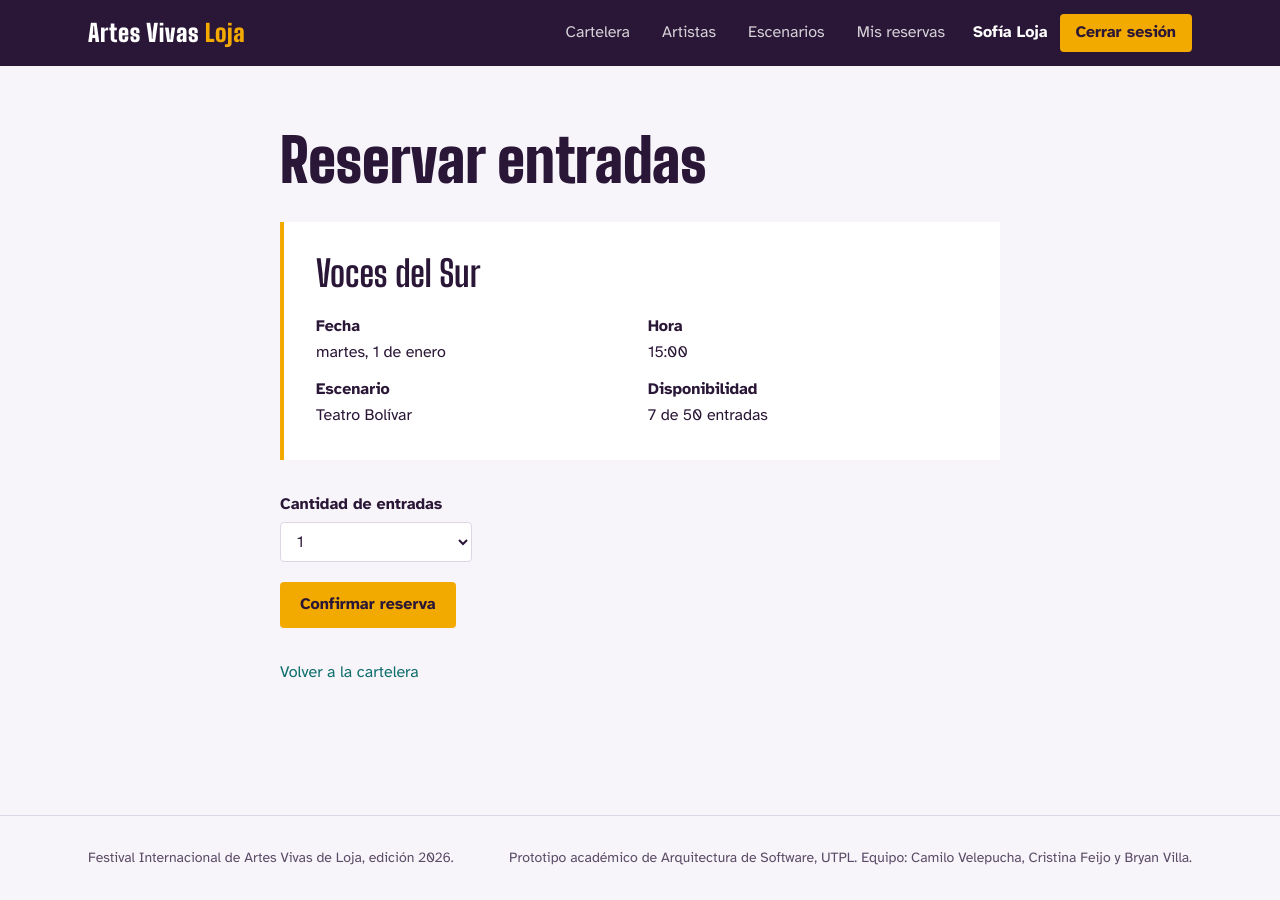
it: ReservePage › muestra errores de aforo devueltos por la API
The width and height of the screenshot is (1280, 900).
Expected: the heading "Voces del Sur" is shown, [316,252,480,295]
Click the button "Confirmar reserva": {"x": 368, "y": 605} [280,582,456,628]
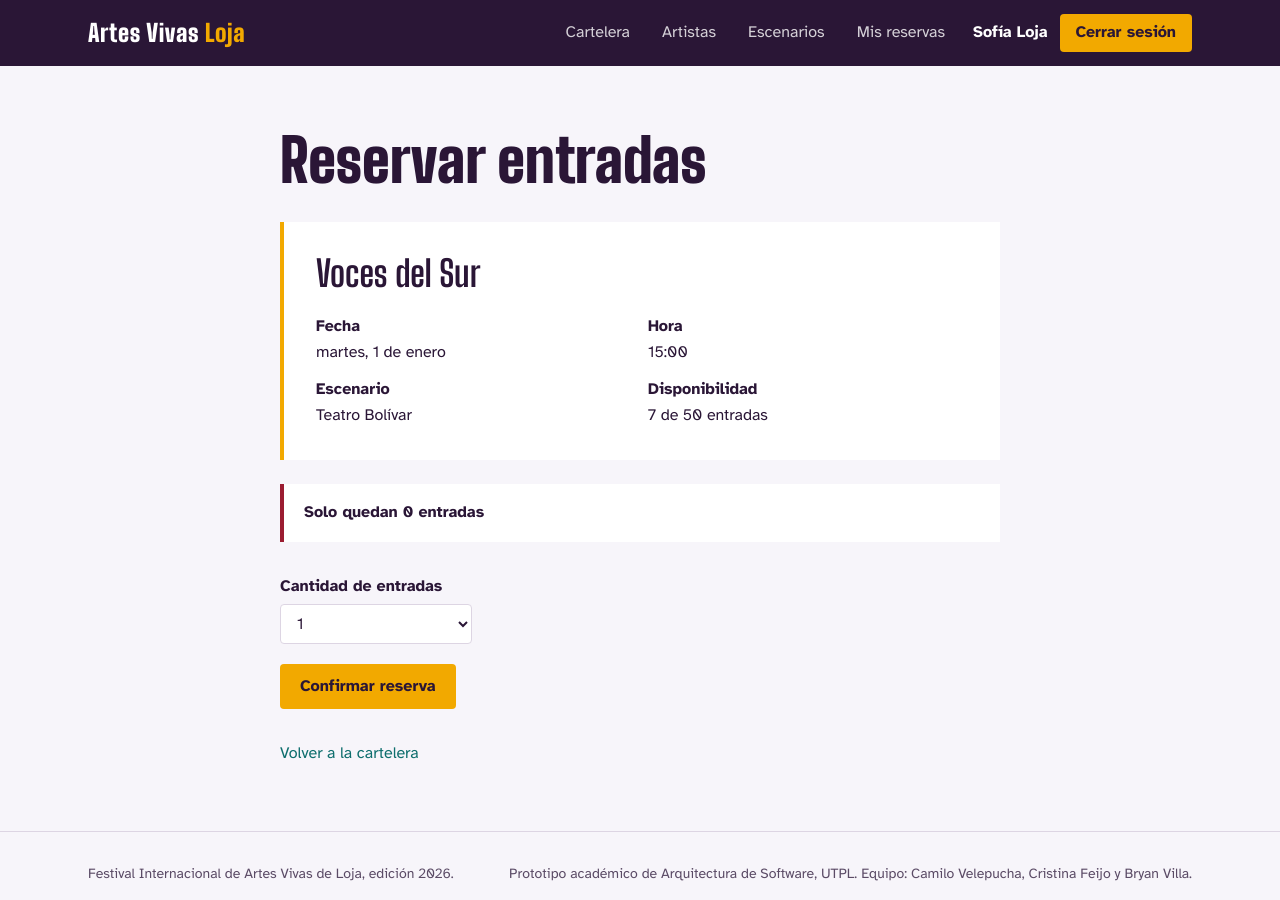
Expected: the message reads "Solo quedan 0 entradas", [304,502,484,522]
